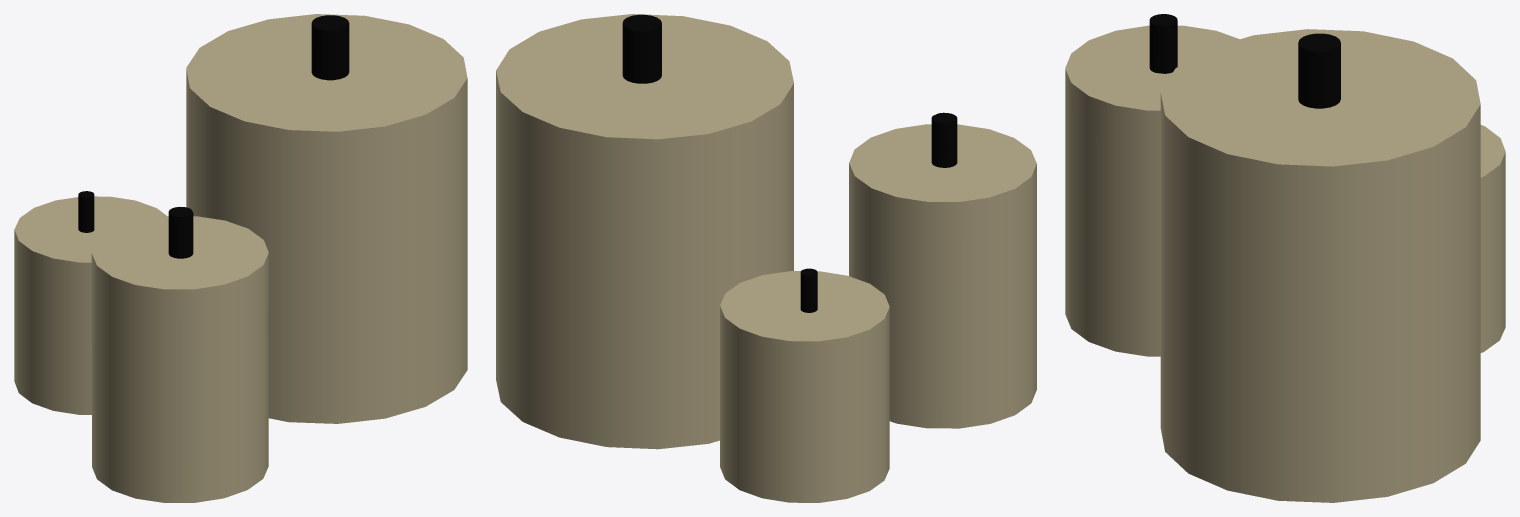
File: Candle Set.fbx
3 views of the same model, side by side, from view 1: azimuth 30°, elevation 25°; view 2: azimuth 150°, elevation 25°; view 3: azimuth 270°, elevation 25° (orthographic). The views are drawn at different scales.
Visible parts, largest first — view 1: Material.019 Mesh (1), Material.012 Mesh (1); view 2: Material.019 Mesh (1), Material.012 Mesh (1); view 3: Material.019 Mesh (1), Material.012 Mesh (1).
Part boxes in pixels (<box>): Material.019 Mesh (1): <box>14,14,467,502</box>; Material.012 Mesh (1): <box>78,15,349,258</box>; Material.019 Mesh (1): <box>496,14,1036,502</box>; Material.012 Mesh (1): <box>622,14,957,312</box>; Material.019 Mesh (1): <box>1065,25,1505,502</box>; Material.012 Mesh (1): <box>1149,14,1340,108</box>.
Bounding box in the file's own units: 1.09 × 0.8622 × 0.8749.
